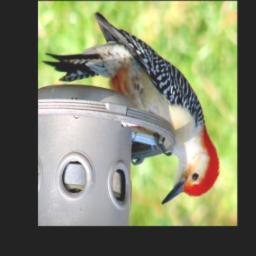Woodpecker: (42, 11, 219, 205)
